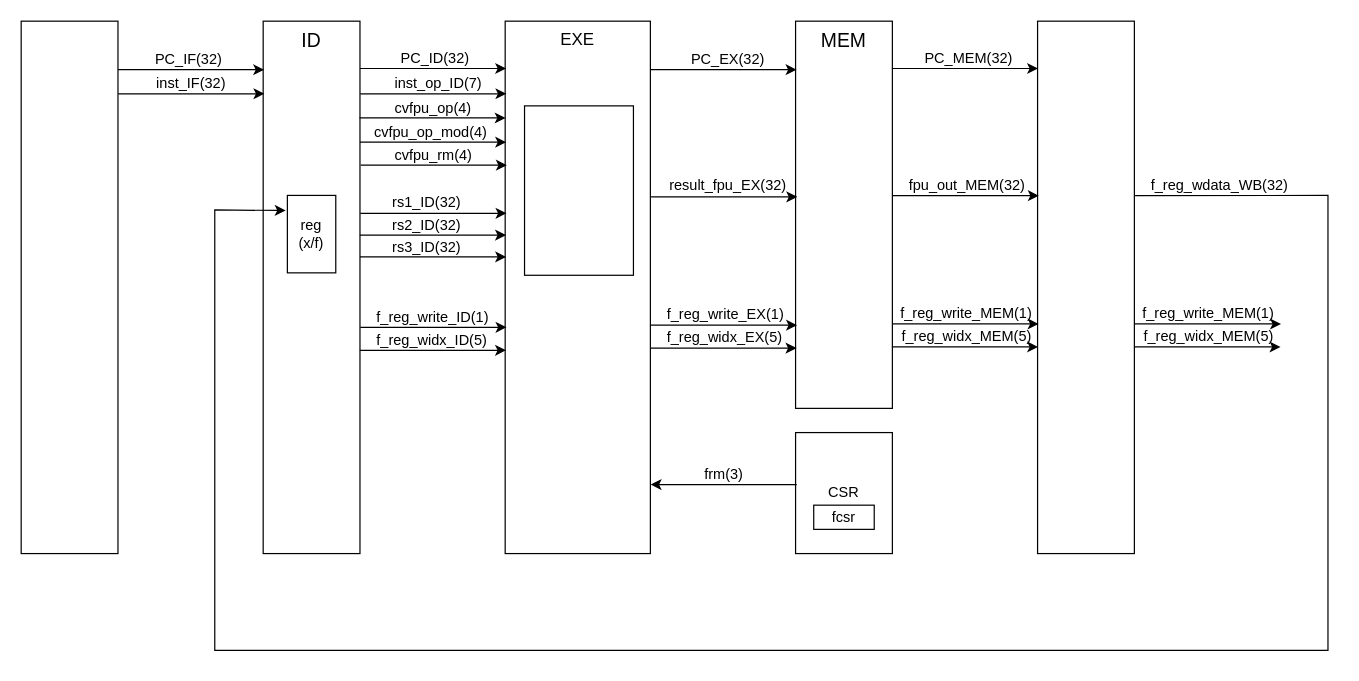
This 1359x681 diagram has some shape labels left out. The centre of each missing label's shape, as x and y in pixels:
cvfpu: pixel 578 190
IF: pixel 69 287
WB: pixel 1085 287
